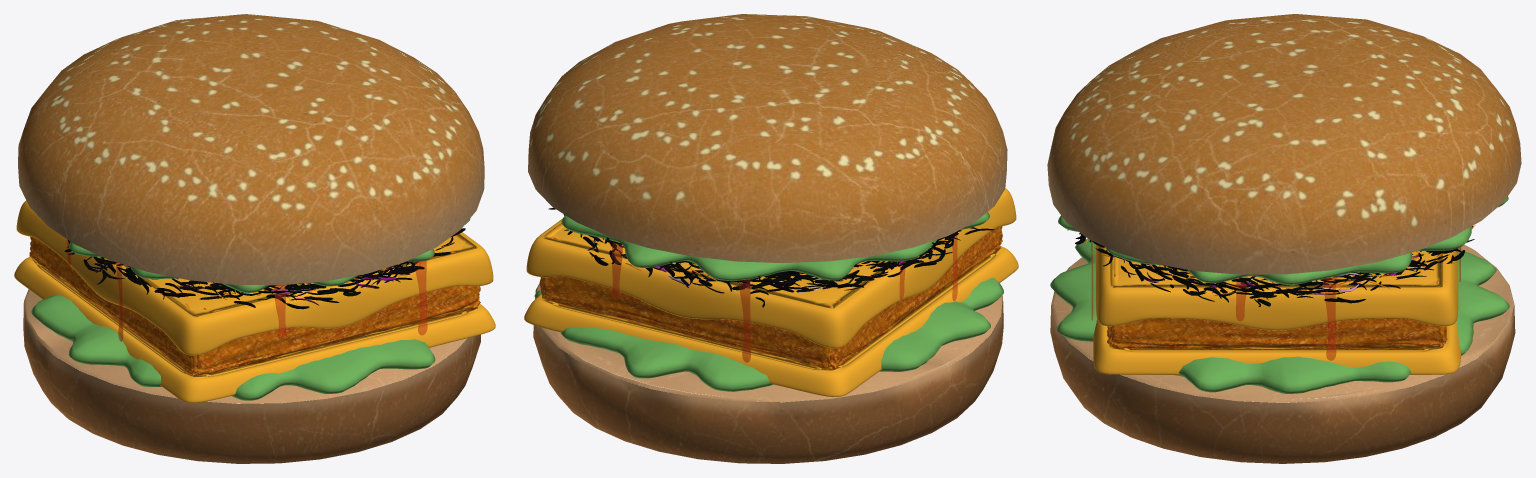
The model's file is crispy-paneer-burger.glb.
3 views of the same model, side by side, from view 1: azimuth 30°, elevation 25°; view 2: azimuth 150°, elevation 25°; view 3: azimuth 270°, elevation 25° (orthographic). The views are drawn at different scales.
Visible parts, largest first — view 1: Burger_Bottom_Bun, Burger_Cheese_Bottom, Burger_Chutney_Bottom, Burger_Paneer_Patty, Burger_Slaw_Ribbons, Burger_Chili_Drips; view 2: Burger_Bottom_Bun, Burger_Cheese_Bottom, Burger_Chutney_Bottom, Burger_Paneer_Patty, Burger_Slaw_Ribbons, Burger_Chili_Drips; view 3: Burger_Bottom_Bun, Burger_Cheese_Bottom, Burger_Chutney_Bottom, Burger_Paneer_Patty, Burger_Slaw_Ribbons, Burger_Chili_Drips.
Part boxes in pixels (x1,y1,x2,y2): Burger_Bottom_Bun: [18, 14, 484, 463]; Burger_Cheese_Bottom: [14, 200, 495, 402]; Burger_Chutney_Bottom: [31, 218, 470, 400]; Burger_Paneer_Patty: [29, 235, 480, 376]; Burger_Slaw_Ribbons: [64, 228, 465, 309]; Burger_Chili_Drips: [66, 239, 427, 341]; Burger_Bottom_Bun: [528, 14, 1007, 463]; Burger_Cheese_Bottom: [524, 188, 1018, 396]; Burger_Chutney_Bottom: [534, 212, 1003, 391]; Burger_Paneer_Patty: [539, 226, 1002, 370]; Burger_Slaw_Ribbons: [548, 207, 995, 307]; Burger_Chili_Drips: [611, 235, 957, 362]; Burger_Bottom_Bun: [1047, 14, 1521, 463]; Burger_Cheese_Bottom: [1093, 245, 1460, 374]; Burger_Chutney_Bottom: [1050, 196, 1509, 393]; Burger_Paneer_Patty: [1107, 274, 1447, 349]; Burger_Slaw_Ribbons: [1067, 226, 1474, 306]; Burger_Chili_Drips: [1091, 240, 1461, 360].
Size of the model in its own units: 2 by 1.46 by 2.
Materials: 7 (3 with a texture image).
